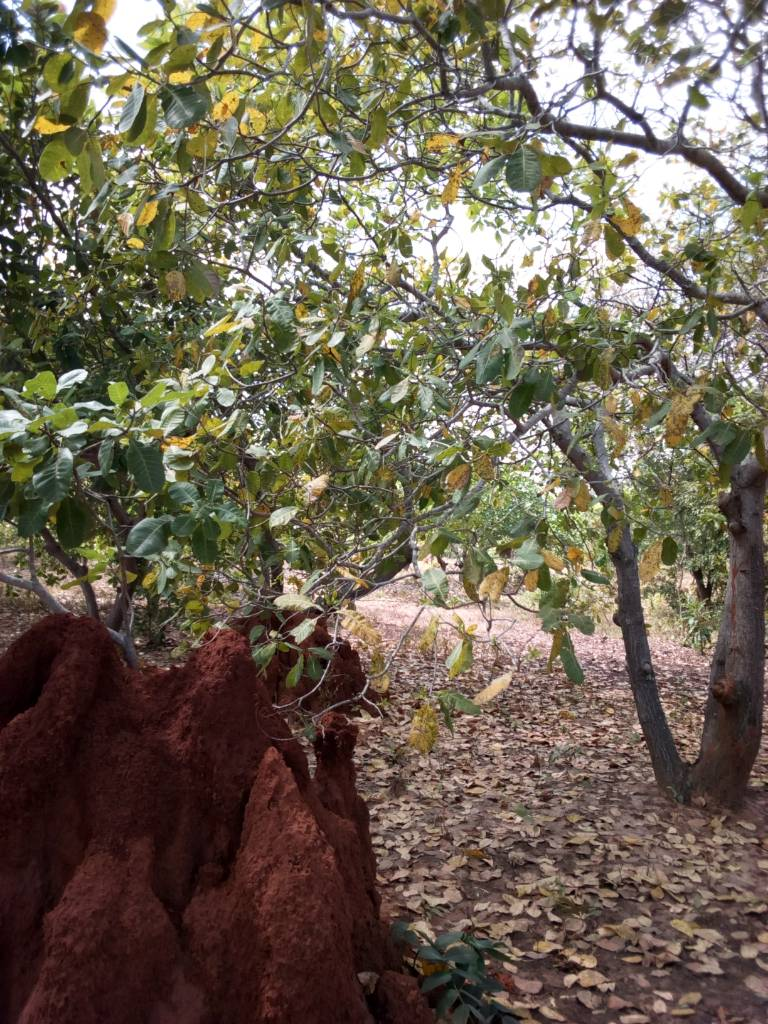Termites: (10, 617, 346, 1024)
